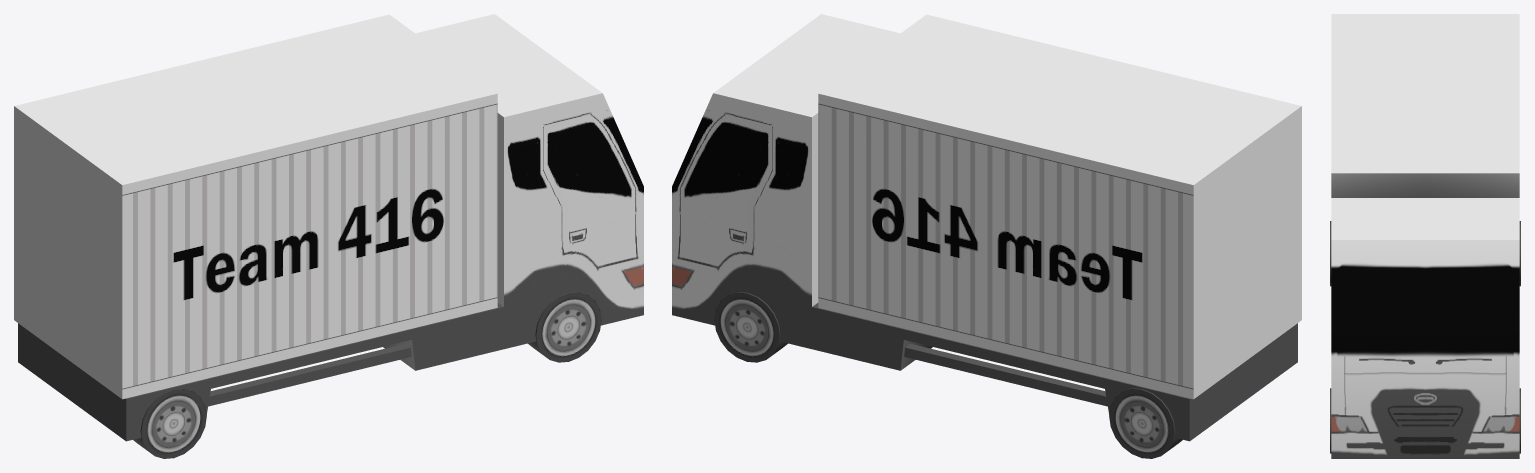
Rendered from truck02.fbx.
3 renders of one model, left to right at view 1: azimuth 30°, elevation 25°; view 2: azimuth 150°, elevation 25°; view 3: azimuth 270°, elevation 25°, orthographic. The views are drawn at different scales.
Visible parts, largest first — view 1: contena2, head2, tyre_fr, tyre_rr; view 2: contena2, head2, tyre_fl, tyre_rl; view 3: head2, contena2.
Part boxes in pixels (x1=…): contena2: x1=14, y1=14, x2=507, y2=441; head2: x1=415, y1=14, x2=643, y2=349; tyre_fr: x1=528, y1=292, x2=601, y2=362; tyre_rr: x1=133, y1=388, x2=206, y2=458; contena2: x1=808, y1=14, x2=1301, y2=441; head2: x1=672, y1=14, x2=900, y2=348; tyre_fl: x1=714, y1=292, x2=787, y2=362; tyre_rl: x1=1109, y1=388, x2=1182, y2=458; head2: x1=1331, y1=198, x2=1519, y2=458; contena2: x1=1331, y1=14, x2=1519, y2=197.
Bounding box in the file's own units: 16.93 × 8.83 × 6.17.
Materials: 2 (2 with a texture image).
